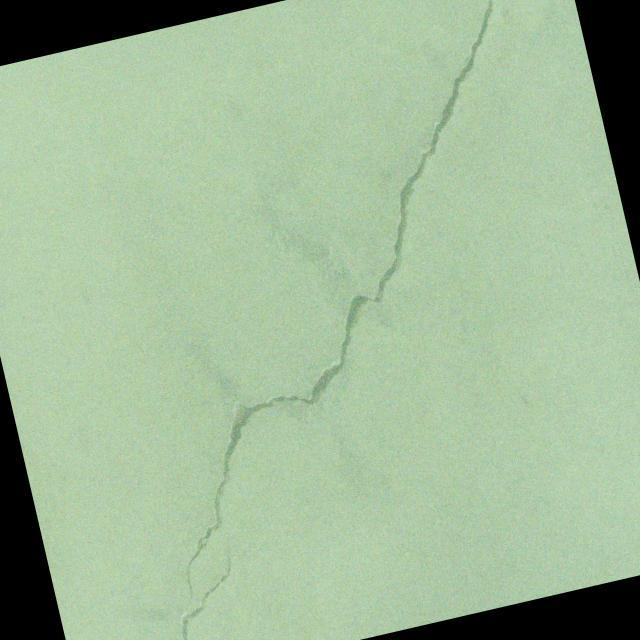crack: (61, 0, 640, 605), (140, 541, 257, 640)
